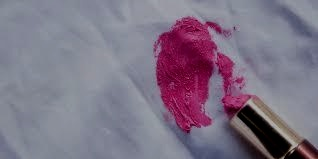lipstick: (148, 19, 229, 134)
